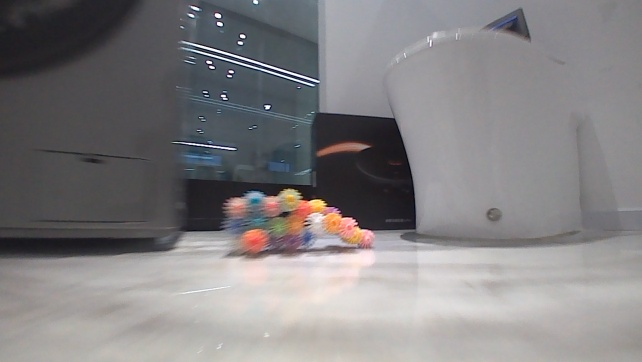plastic_toy: (220, 183, 379, 260)
toilet: (379, 25, 569, 246)
washing_machine1: (2, 0, 190, 250)
